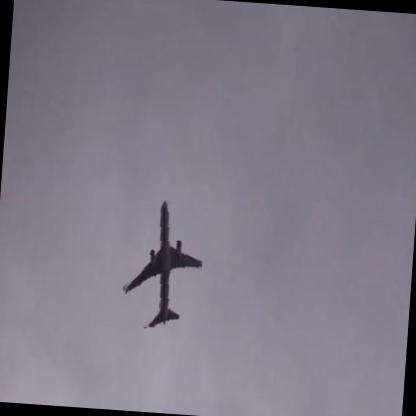plane: (117, 194, 210, 332)
